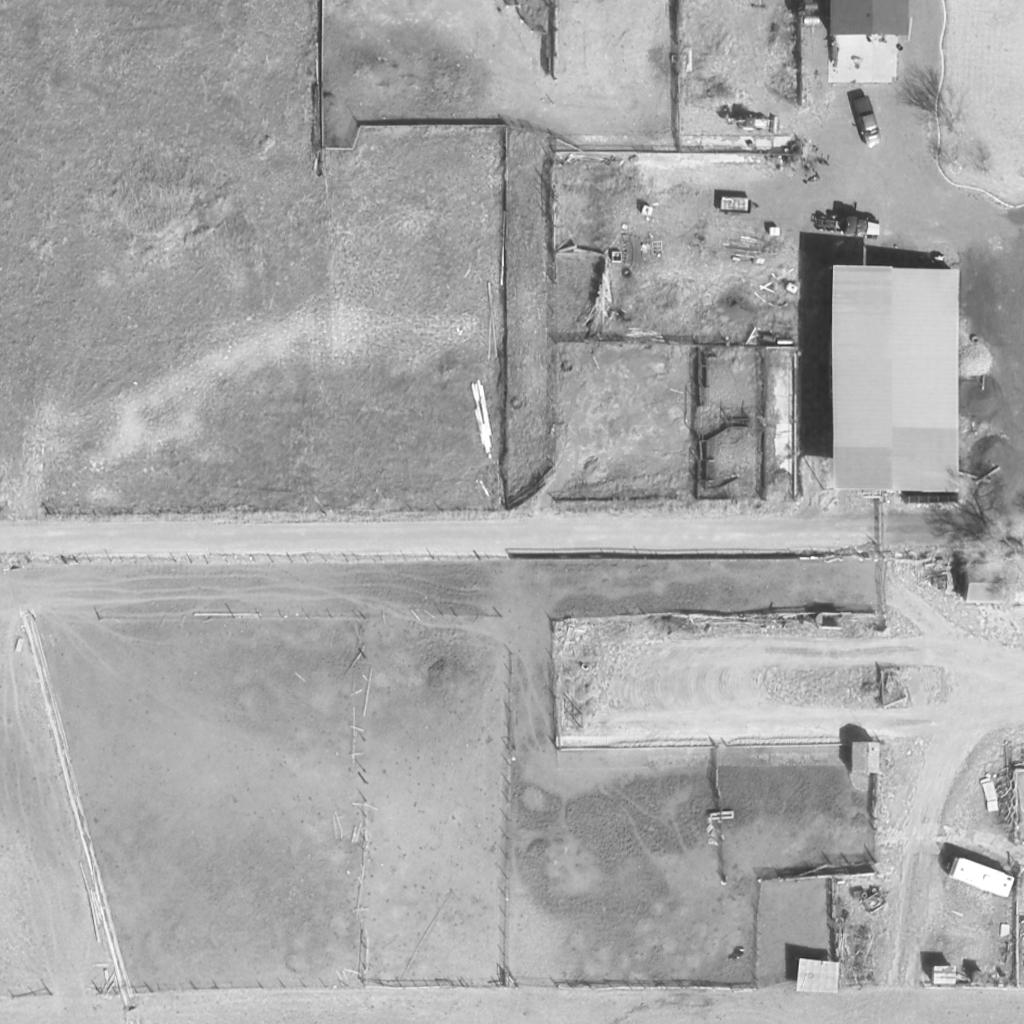vehicle: (943, 858, 1015, 900), (814, 207, 880, 247), (722, 112, 782, 140), (852, 97, 884, 147), (979, 780, 1001, 812)
